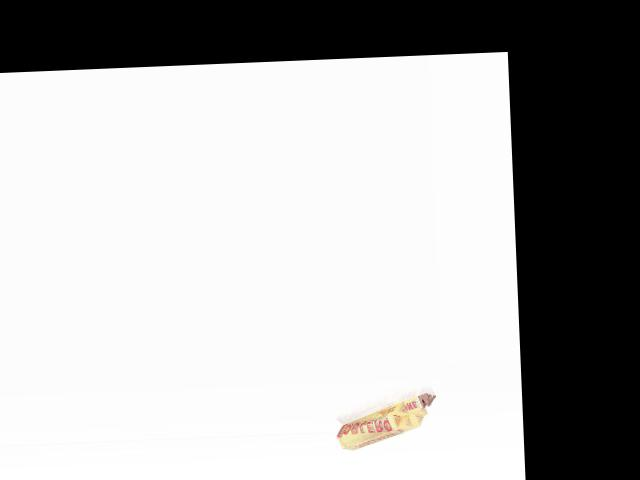chocolate: (335, 388, 438, 452)
